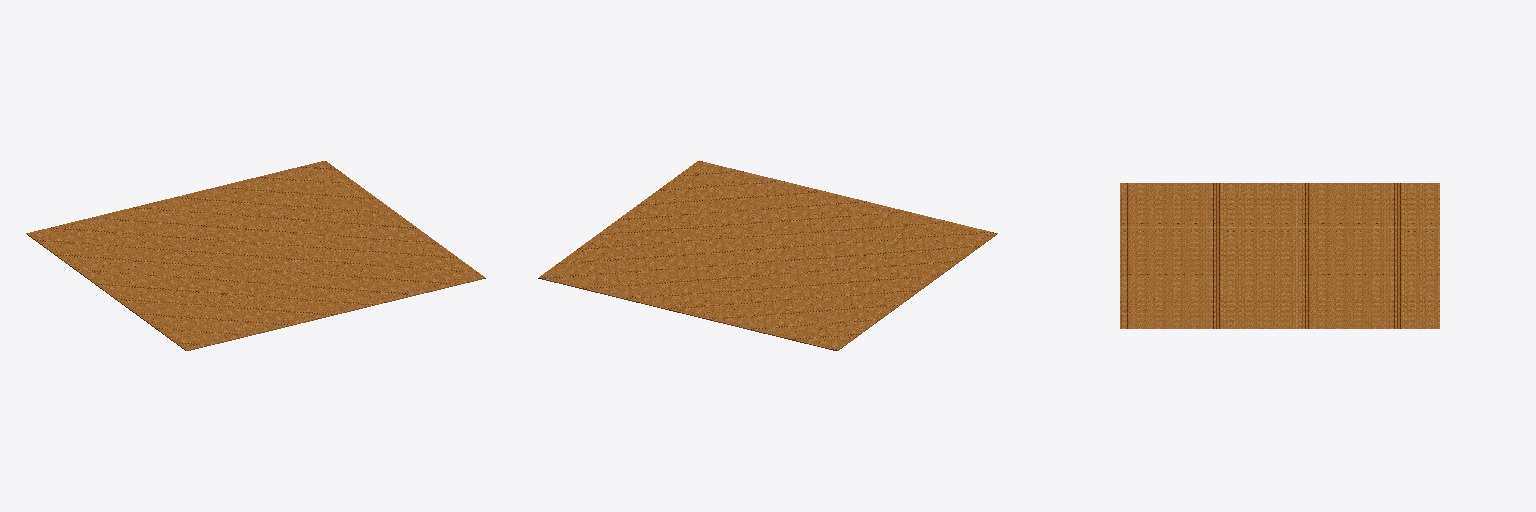
3 renders of one model, left to right at view 1: azimuth 30°, elevation 25°; view 2: azimuth 150°, elevation 25°; view 3: azimuth 270°, elevation 25°, orthographic.
Visible parts, largest first — view 1: 立方体; view 2: 立方体; view 3: 立方体.
Part boxes in pixels (x1,y1,x2,y2): 立方体: (26, 161, 485, 350); 立方体: (538, 161, 997, 350); 立方体: (1120, 183, 1439, 328).
Bounding box in the file's own units: 164 × 0.4538 × 152.
1 materials, 1 textured.